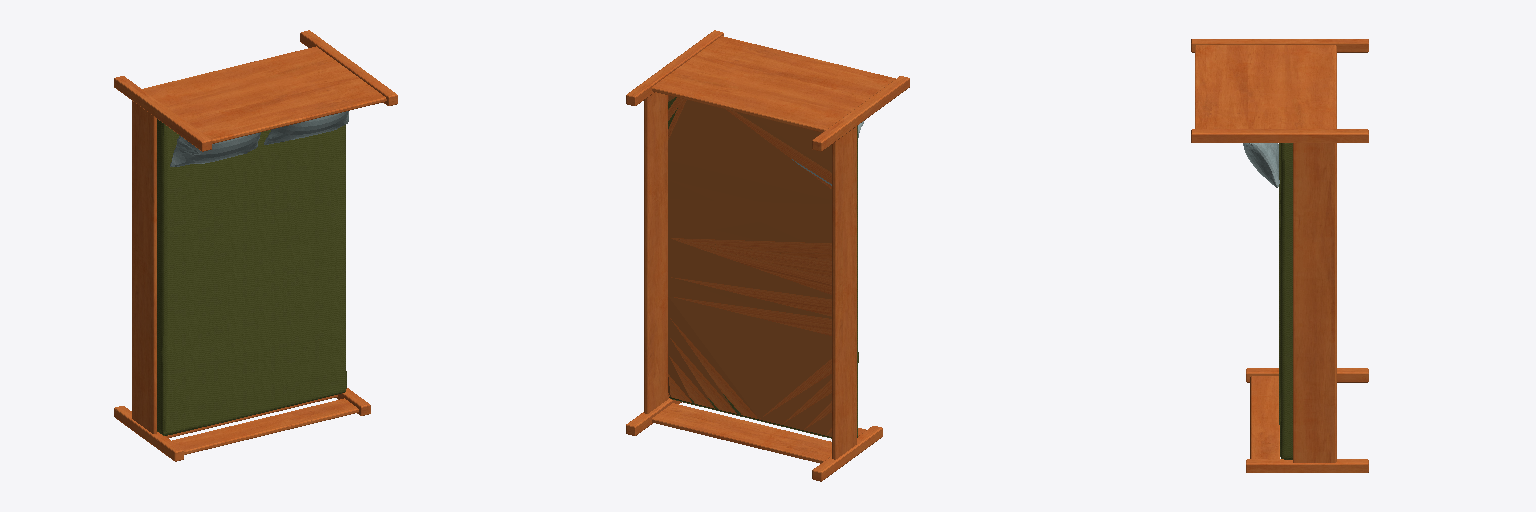
3 views of the same model, side by side, from view 1: azimuth 30°, elevation 25°; view 2: azimuth 150°, elevation 25°; view 3: azimuth 270°, elevation 25° (orthographic).
Parts seen in each view (by area): view 1: Object.1; view 2: Object.1; view 3: Object.1.
Boxes of the visible parts, x1,y1,x2,y2 form: Object.1: [114, 30, 397, 461]; Object.1: [626, 30, 909, 481]; Object.1: [1191, 39, 1368, 472].
Bounding box in the file's own units: 15 × 24.84 × 11.75.
Materials: 1 (1 with a texture image).